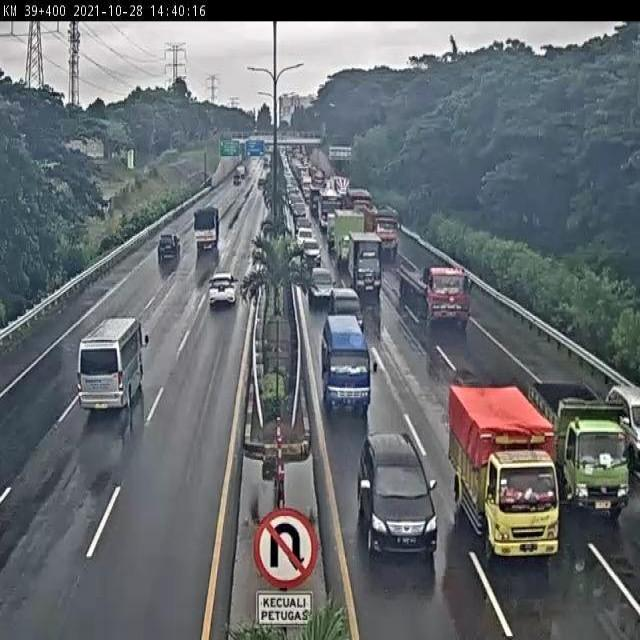big truck: (396, 260, 471, 327)
car: (355, 435, 440, 553), (310, 266, 338, 310), (206, 270, 239, 306), (330, 288, 362, 324), (157, 235, 182, 264), (302, 238, 323, 266)
small bus: (77, 317, 148, 412), (320, 317, 376, 415)
small truck: (447, 384, 558, 557), (530, 379, 631, 520), (349, 233, 382, 296)
truck-m-: (192, 204, 221, 249)
